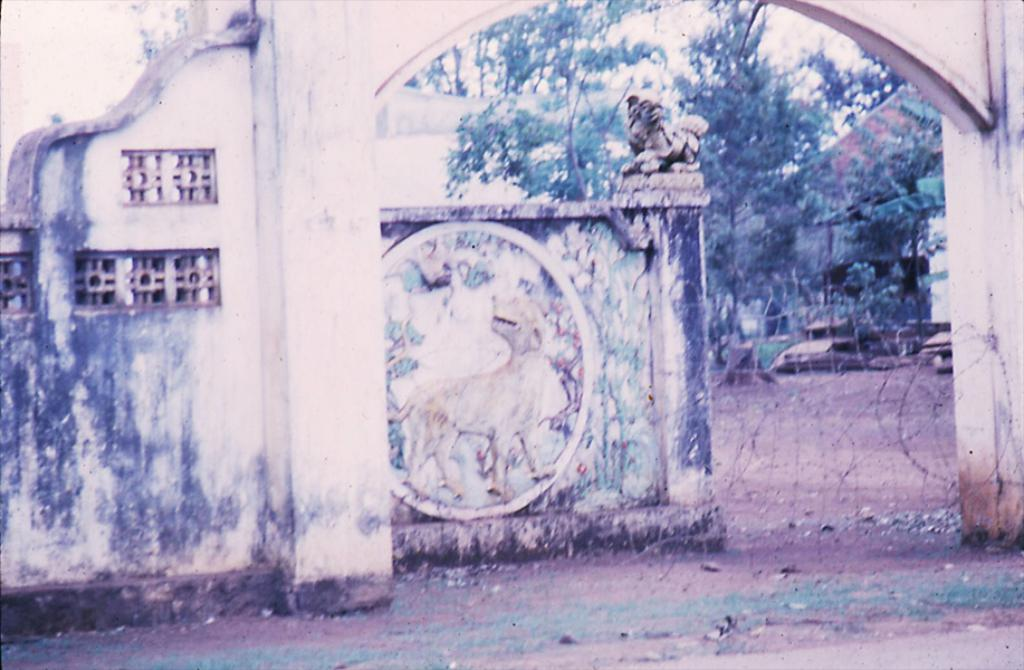Tree: (403, 0, 945, 368)
